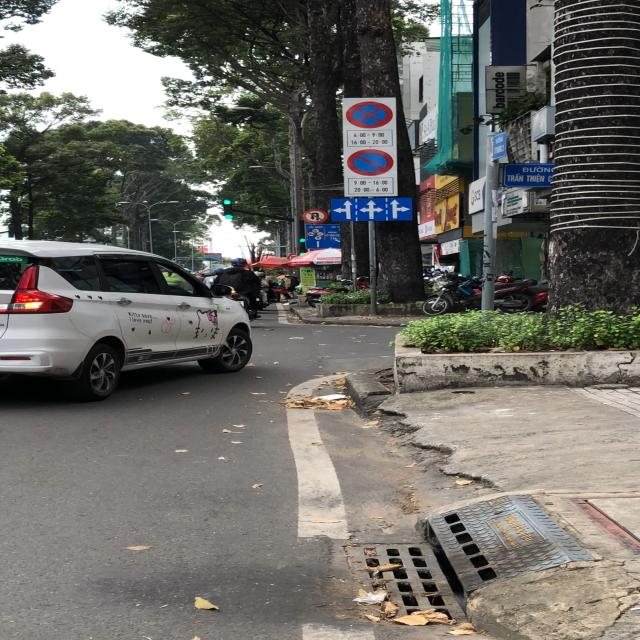Bien bao cam do xe: (343, 148, 398, 177)
Bien bao cam dung xe va do xe: (346, 99, 394, 128)
Bien bao cam quay dau xe: (302, 207, 329, 225)
